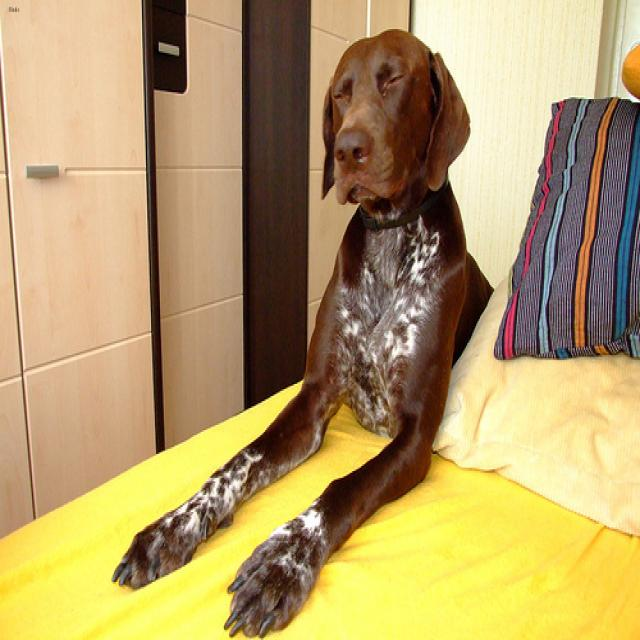dog-german_shorthaired: (106, 17, 502, 637)
